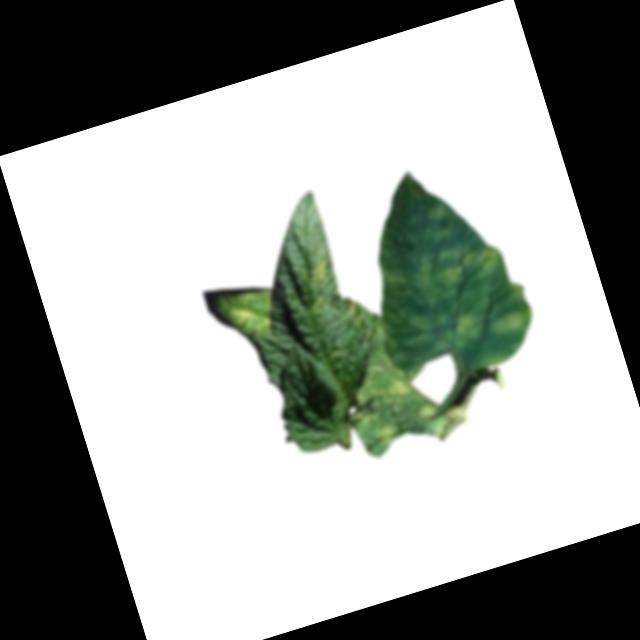Leaf_Mold: (371, 230, 509, 322), (340, 352, 440, 454), (441, 306, 489, 352), (485, 304, 535, 344), (306, 258, 335, 287)
